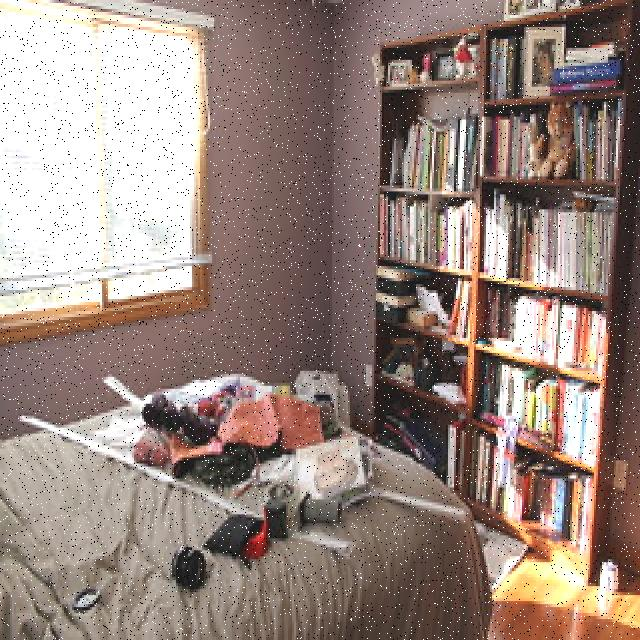bed: (0, 358, 490, 624)
